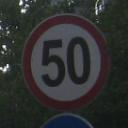speed_limit_50: (22, 14, 109, 110)
